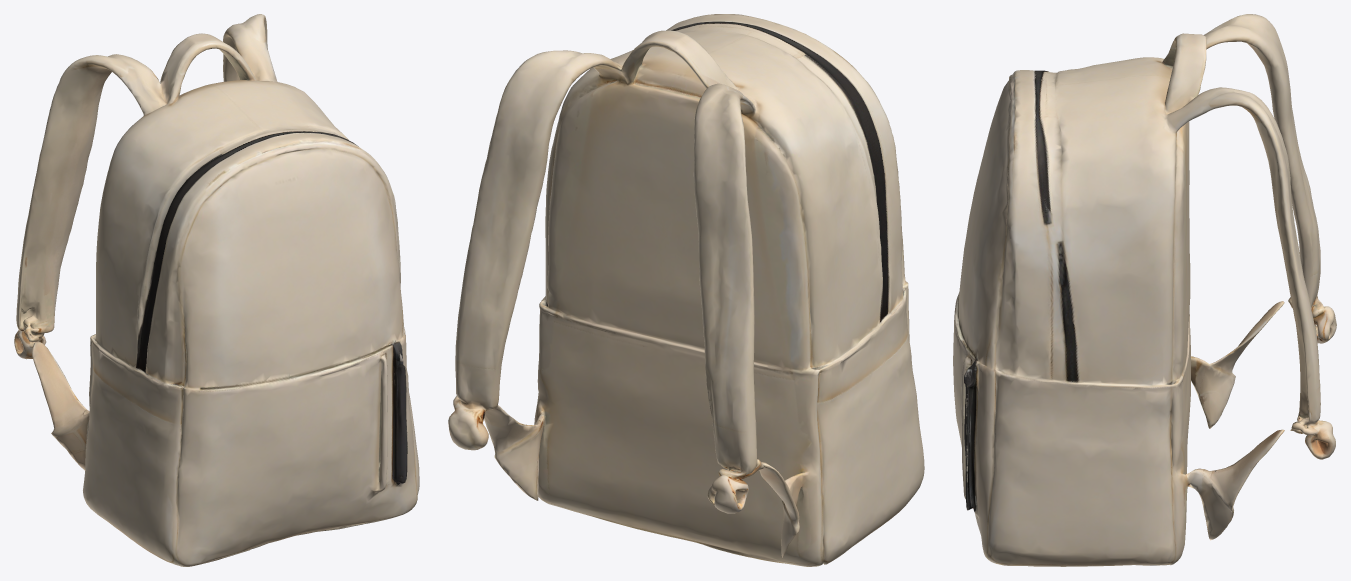
Rendered from Product 3D Model.glb.
3 renders of one model, left to right at view 1: azimuth 30°, elevation 25°; view 2: azimuth 150°, elevation 25°; view 3: azimuth 270°, elevation 25°, orthographic. The views are drawn at different scales.
Bounding box in the file's own units: 1.26 × 2 × 1.47.
Materials: 1 (1 with a texture image).
